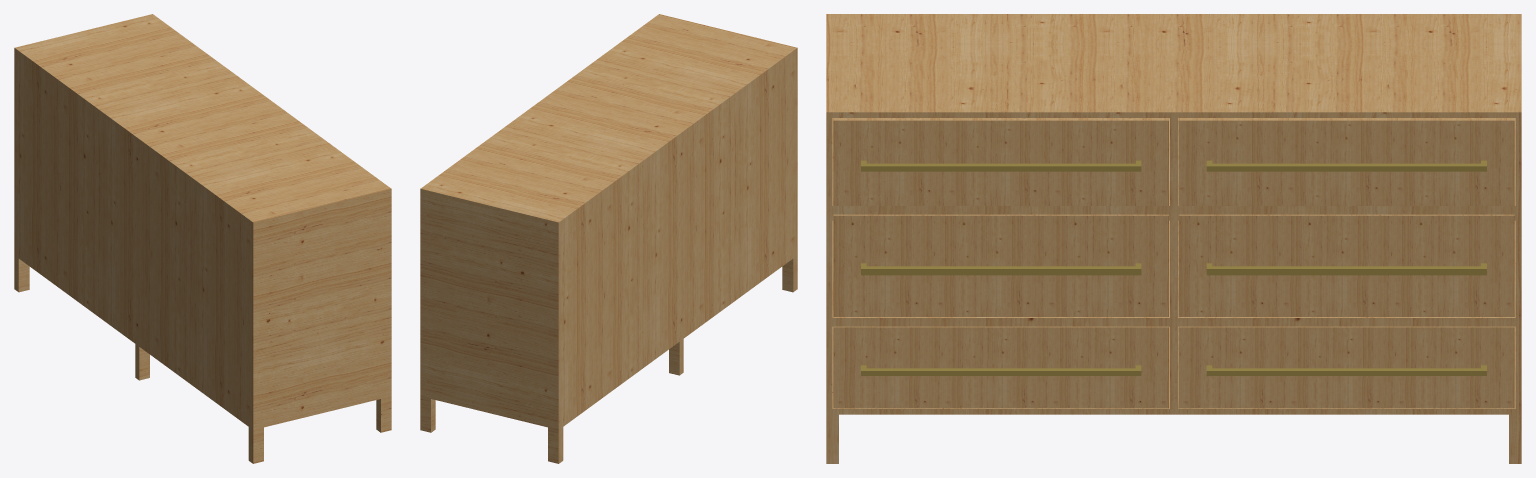
Rendered from Dresser.fbx.
3 views of the same model, side by side, from view 1: azimuth 30°, elevation 25°; view 2: azimuth 150°, elevation 25°; view 3: azimuth 270°, elevation 25° (orthographic). The views are drawn at different scales.
Parts seen in each view (by area): view 1: Dresser; view 2: Dresser; view 3: Dresser, DresserDrawer3, DresserDrawer2, DresserDrawer, DresserDrawer1, DresserDrawer5, DresserDrawer4.
Boxes of the visible parts, x1,y1,x2,y2 form: Dresser: (14,14,391,463); Dresser: (420,14,797,463); Dresser: (826,14,1521,463); DresserDrawer3: (1178,214,1514,316); DresserDrawer2: (833,214,1168,316); DresserDrawer: (1178,118,1514,205); DresserDrawer1: (833,118,1168,205); DresserDrawer5: (1178,326,1514,408); DresserDrawer4: (833,326,1168,408).
Size of the model in its own units: 1.52 by 2.39 by 4.29.
2 materials, 1 textured.
